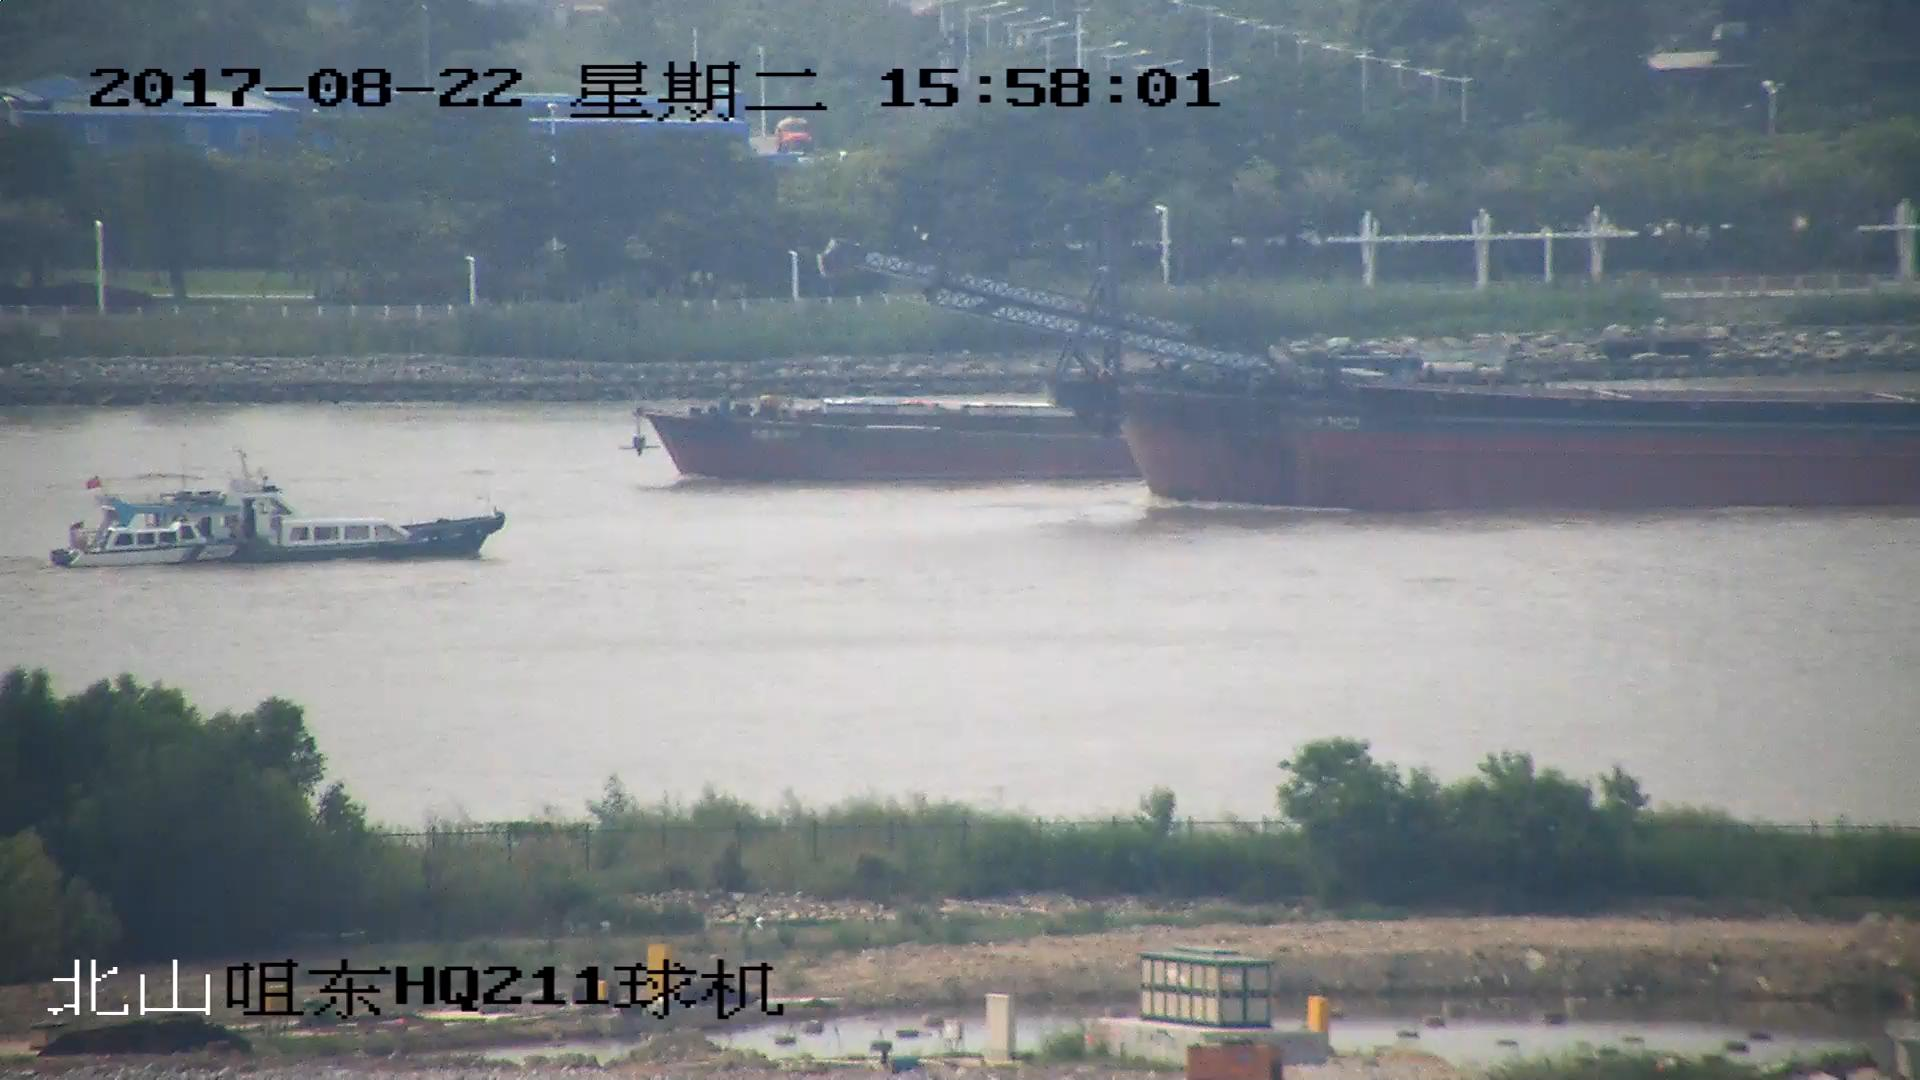bulk cargo carrier: (816, 239, 1920, 513), (633, 382, 1161, 486)
fishing boat: (44, 465, 501, 571)
